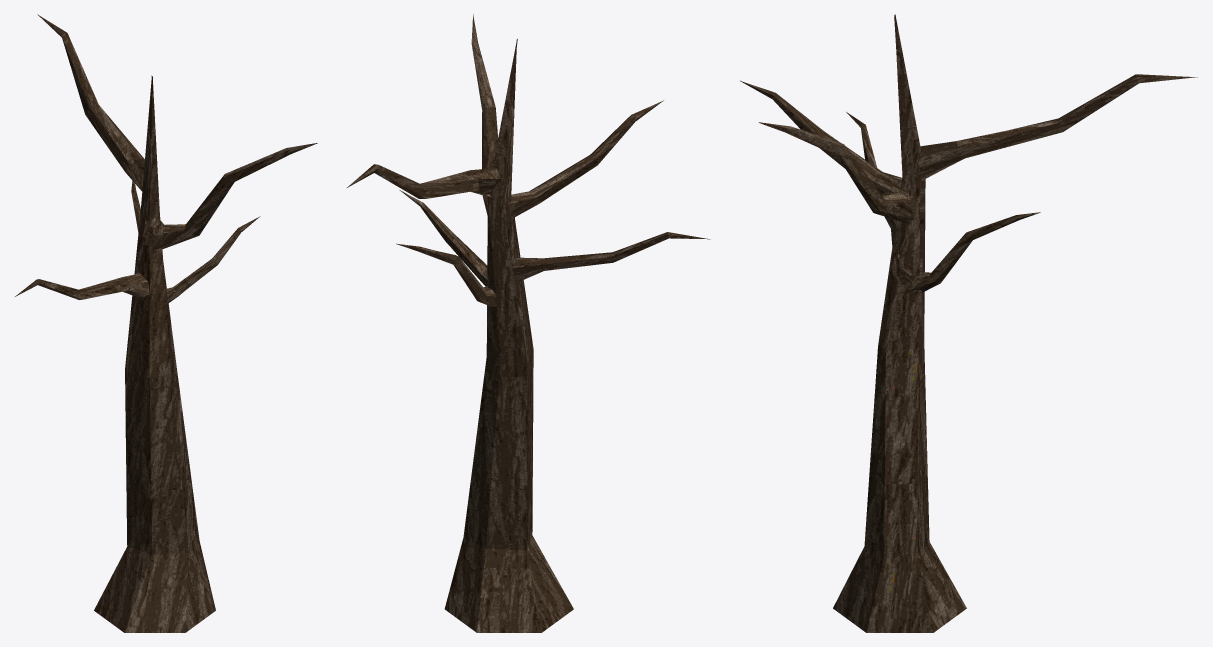
File: deadTree big.fbx
3 views of the same model, side by side, from view 1: azimuth 30°, elevation 25°; view 2: azimuth 150°, elevation 25°; view 3: azimuth 270°, elevation 25° (orthographic). The views are drawn at different scales.
Visible parts, largest first — view 1: Cylinder; view 2: Cylinder; view 3: Cylinder.
Part boxes in pixels (x1,y1,x2,y2): Cylinder: (15, 14, 317, 632); Cylinder: (347, 14, 710, 632); Cylinder: (740, 14, 1197, 632).
Bounding box in the file's own units: 511 × 972 × 684.
Materials: 1 (1 with a texture image).
